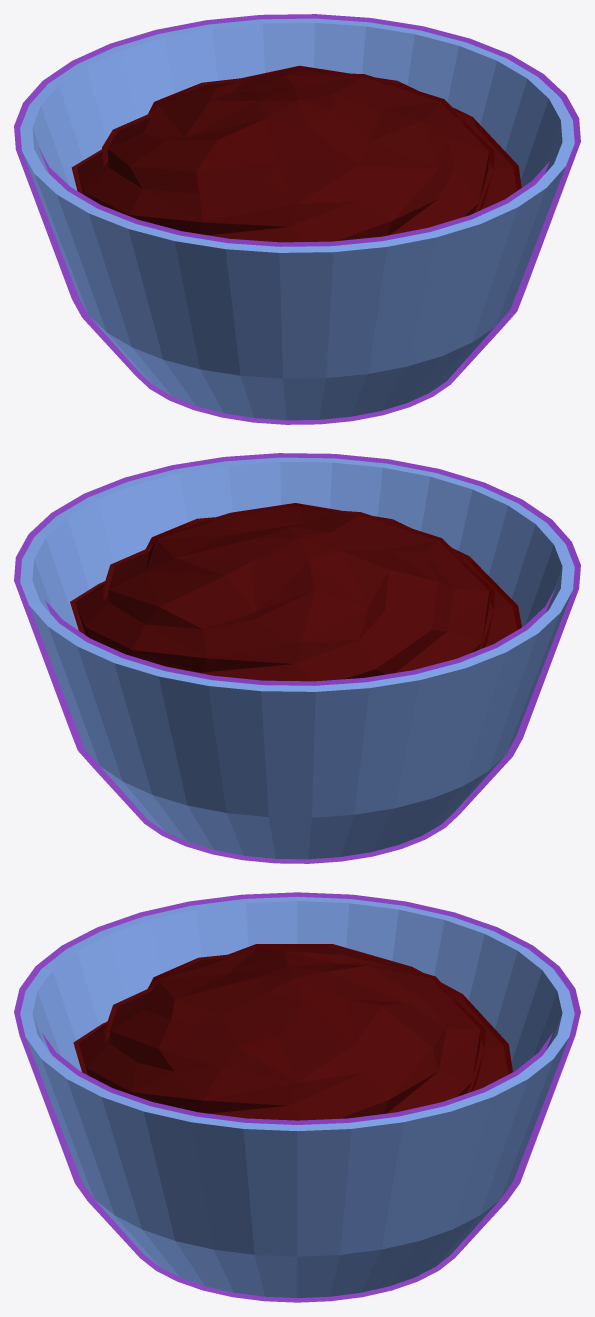
Rendered from massa de chocolate amargo.glb.
3 views of the same model, one above another, from view 1: azimuth 30°, elevation 25°; view 2: azimuth 150°, elevation 25°; view 3: azimuth 270°, elevation 25° (orthographic).
Parts seen in each view (by area): view 1: Cylinder.010, chantilly.006; view 2: Cylinder.010, chantilly.006; view 3: Cylinder.010, chantilly.006.
Boxes of the visible parts, <box> form: Cylinder.010: <box>14,14,580,424</box>; chantilly.006: <box>71,65,521,242</box>; Cylinder.010: <box>14,453,580,863</box>; chantilly.006: <box>70,503,521,681</box>; Cylinder.010: <box>14,892,580,1302</box>; chantilly.006: <box>73,944,512,1120</box>.
Bounding box in the file's own units: 20.93 × 10.38 × 20.93.
